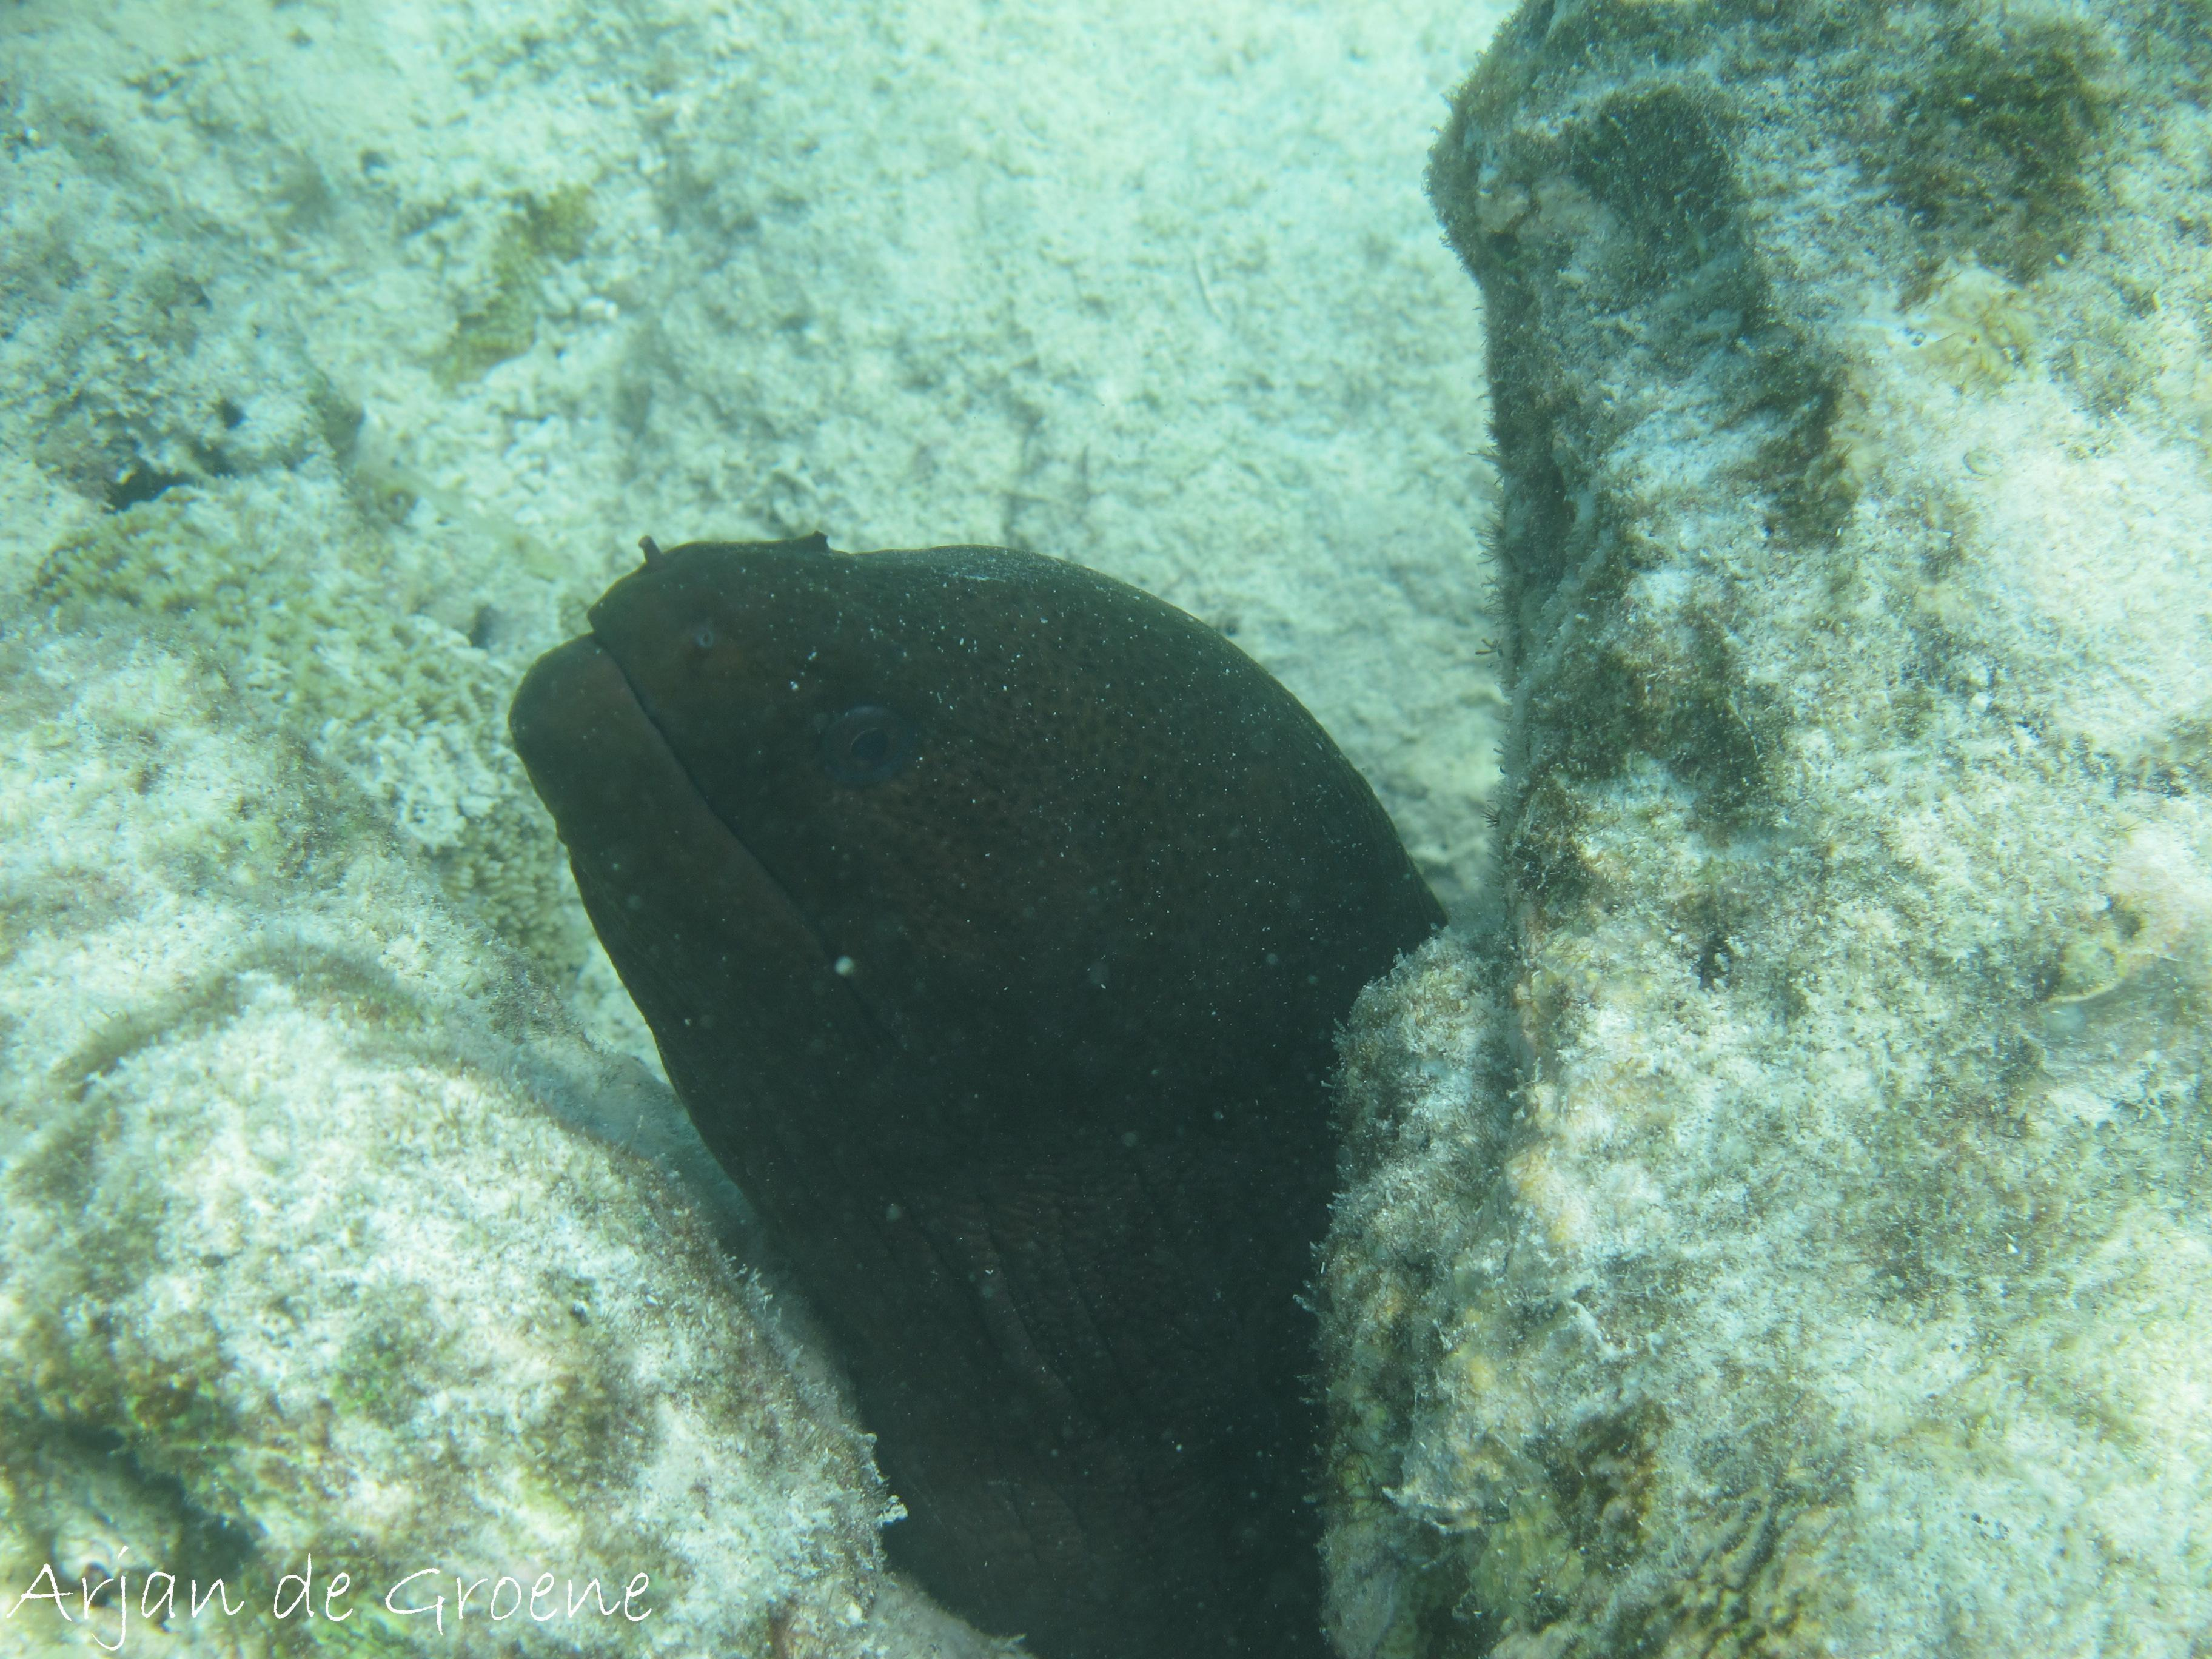Fish: (502, 523, 1470, 1659)
